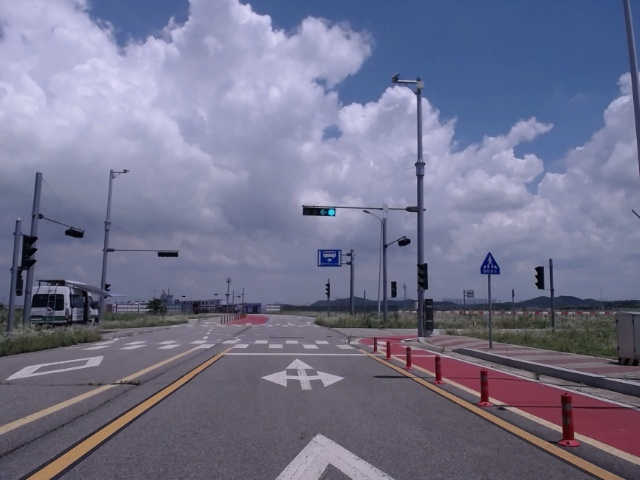all_green_4: (302, 205, 337, 216)
